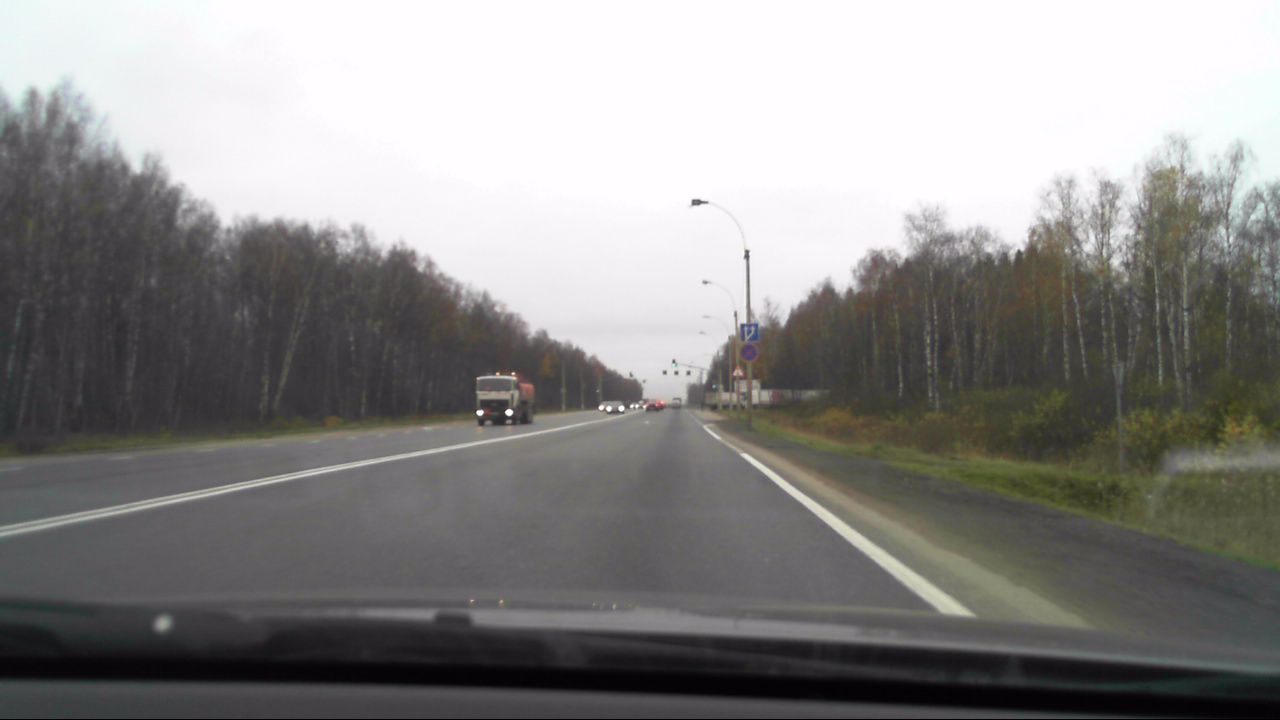No Parking: (739, 342, 758, 362)
